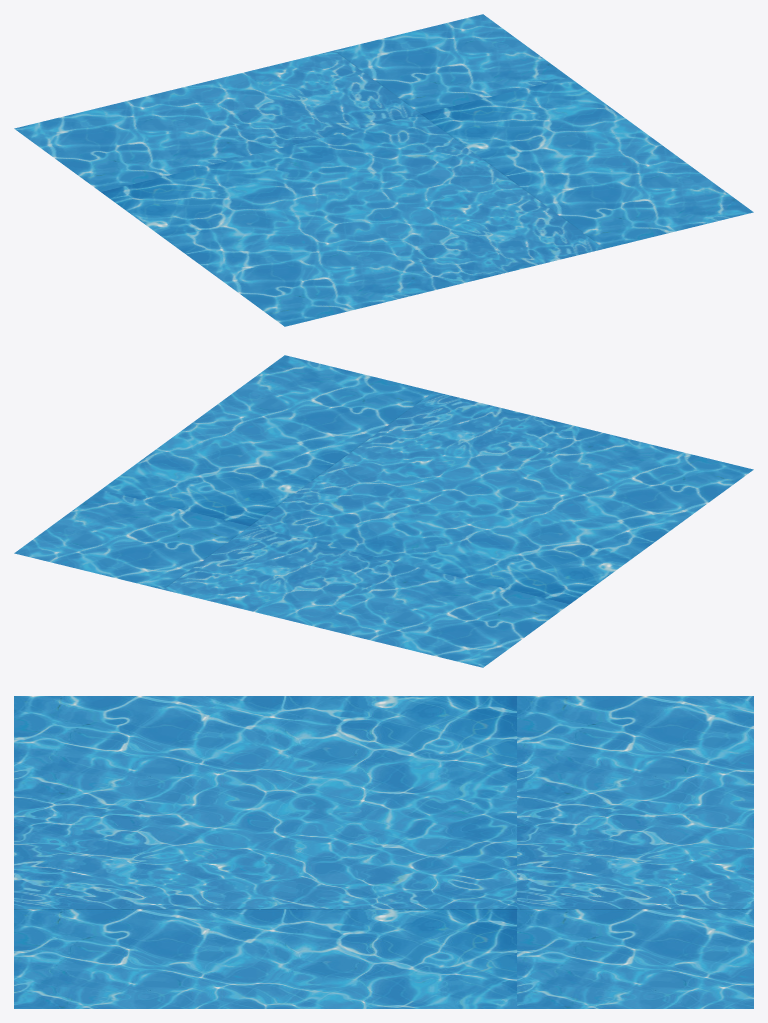
File: Sea.obj
3 renders of one model, top to bottom at view 1: azimuth 30°, elevation 25°; view 2: azimuth 150°, elevation 25°; view 3: azimuth 270°, elevation 25°, orthographic. The views are drawn at different scales.
Parts seen in each view (by area): view 1: Sea:pPlane1; view 2: Sea:pPlane1; view 3: Sea:pPlane1.
Part boxes in pixels (bbox=[...]): Sea:pPlane1: bbox=[14, 14, 753, 326]; Sea:pPlane1: bbox=[14, 355, 753, 667]; Sea:pPlane1: bbox=[14, 696, 753, 1008].
Size of the model in its own units: 21.98 by 0 by 21.98.
1 material, 1 textured.
